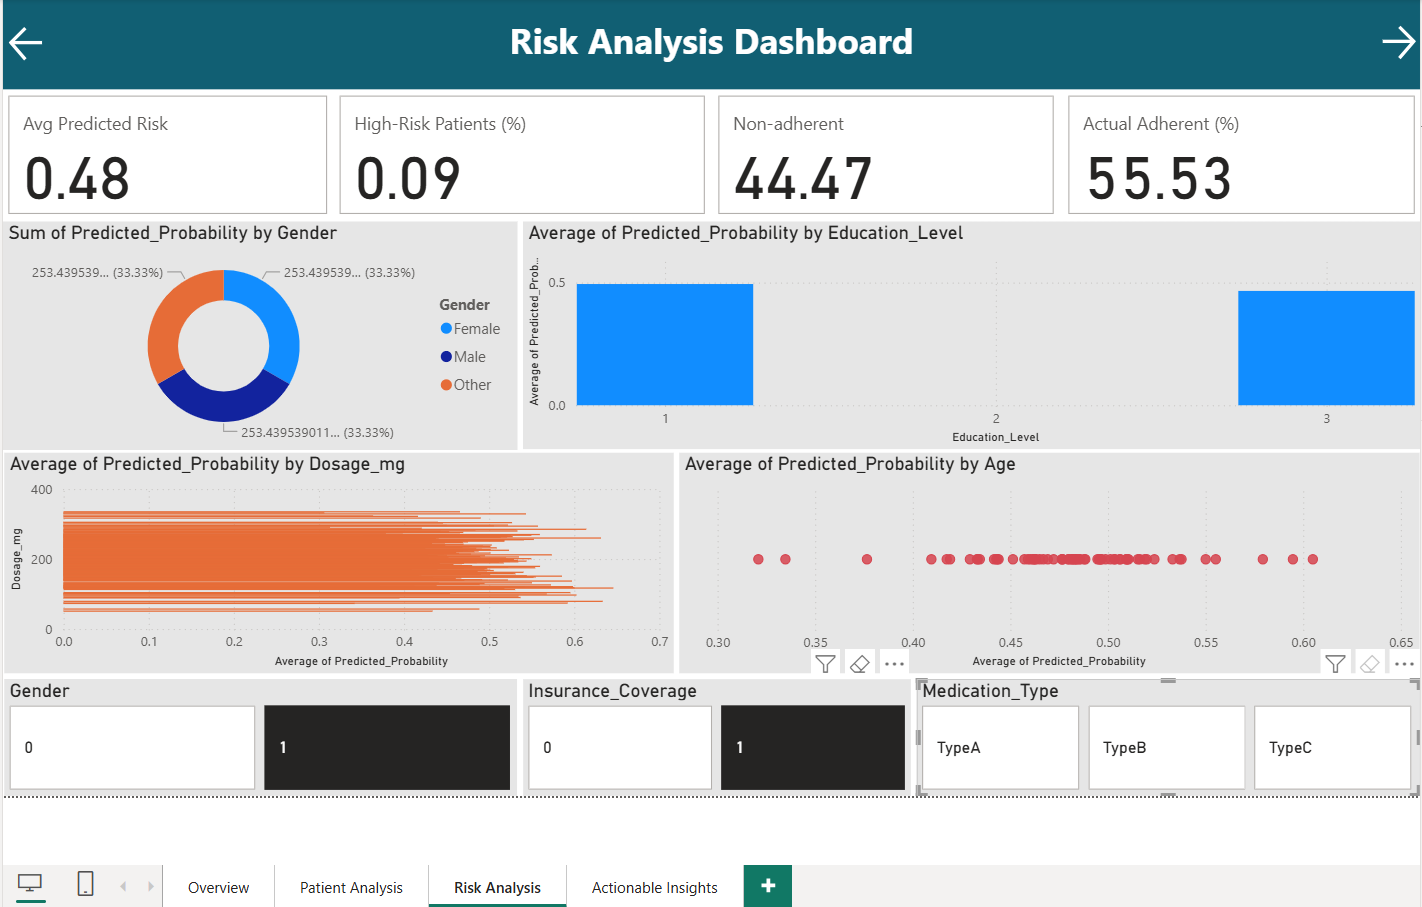

The page's visual inventory and layout, read from the dashboard file:
{"tool":"powerbi","page":{"name":"Risk Analysis","canvas":[1280,720],"ordinal":2},"visuals":[{"type":"textbox","box":[0,0,1280.3,81.9],"z":0},{"type":"cardVisual","fields":{"Data":["adherence_predictions.Avg Predicted Risk"]},"box":[0,81.9,298.9,117.8],"z":1000},{"type":"cardVisual","fields":{"Data":["adherence_predictions.High-Risk Patients (%)"]},"box":[298.9,81.9,340.5,117.8],"z":2000},{"type":"cardVisual","fields":{"Data":["adherence_predictions.Non-adherent"]},"box":[640.9,81.9,313.2,117.8],"z":3000},{"type":"cardVisual","fields":{"Data":["adherence_predictions.Adherent (%)"]},"box":[957,81.9,323.3,117.8],"z":4000},{"type":"donutChart","fields":{"Category":["patient_adherence.Gender"],"Y":["Sum(adherence_predictions.Predicted_Probability)"]},"box":[0,201,465,206],"z":5000},{"type":"clusteredColumnChart","fields":{"Y":["Avg(adherence_predictions.Predicted_Probability)"],"Category":["adherence_predictions.Education_Level"]},"box":[469.6,201,810.7,206],"z":6000},{"type":"clusteredBarChart","fields":{"Y":["Avg(adherence_predictions.Predicted_Probability)"],"Category":["adherence_predictions.Dosage_mg"]},"box":[1.6,410.3,605,199],"z":7000},{"type":"scatterChart","fields":{"Category":["adherence_predictions.Age"],"X":["adherence_predictions.Predicted_Probability"]},"box":[611.3,410.3,669,199.4],"z":8000},{"type":"advancedSlicerVisual","fields":{"Values":["adherence_predictions.Gender"]},"box":[1.6,614.6,463,105.5],"z":8001},{"type":"advancedSlicerVisual","fields":{"Values":["patient_adherence.Insurance_Coverage"]},"box":[469.6,614.6,350,105.5],"z":8002},{"type":"advancedSlicerVisual","fields":{"Values":["patient_adherence.Medication_Type"]},"box":[825.5,614.6,454.8,105.5],"z":8004},{"type":"actionButton","box":[1.6,20.9,99.6,40.2],"z":8005},{"type":"actionButton","box":[1180.7,19.3,99.6,40.2],"z":8006}]}

Visuals, with their boxes on the page's 1280x720 design canvas (x1, y1, x2, y2). These are canvas units, not pixel positions in the 1422x907 screenshot, which may show the page scaled, cropped or inside an application window:
textbox: box=[0, 0, 1280, 82]
cardVisual - adherence_predictions.Avg Predicted Risk: box=[0, 82, 299, 200]
cardVisual - adherence_predictions.High-Risk Patients (%): box=[299, 82, 639, 200]
cardVisual - adherence_predictions.Non-adherent: box=[641, 82, 954, 200]
cardVisual - adherence_predictions.Adherent (%): box=[957, 82, 1280, 200]
donutChart - patient_adherence.Gender x Sum(adherence_predictions.Predicted_Probability): box=[0, 201, 465, 407]
clusteredColumnChart - Avg(adherence_predictions.Predicted_Probability) x adherence_predictions.Education_Level: box=[470, 201, 1280, 407]
clusteredBarChart - Avg(adherence_predictions.Predicted_Probability) x adherence_predictions.Dosage_mg: box=[2, 410, 607, 609]
scatterChart - adherence_predictions.Age x adherence_predictions.Predicted_Probability: box=[611, 410, 1280, 610]
advancedSlicerVisual - adherence_predictions.Gender: box=[2, 615, 465, 720]
advancedSlicerVisual - patient_adherence.Insurance_Coverage: box=[470, 615, 820, 720]
advancedSlicerVisual - patient_adherence.Medication_Type: box=[826, 615, 1280, 720]
actionButton: box=[2, 21, 101, 61]
actionButton: box=[1181, 19, 1280, 60]
